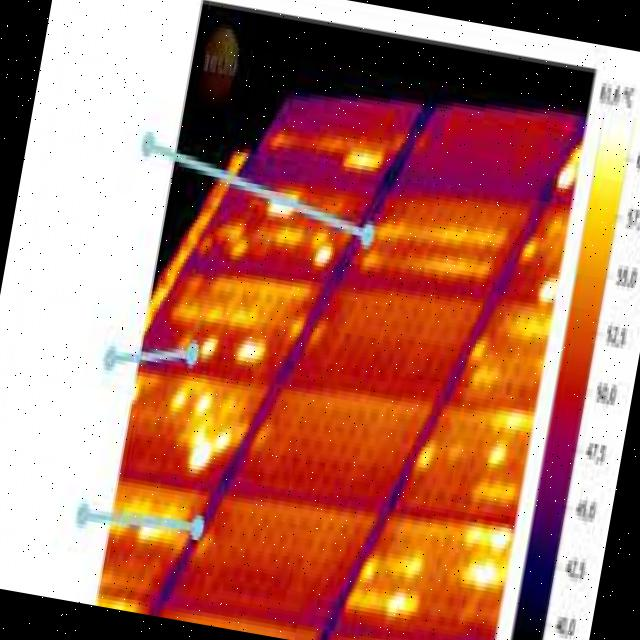Hotspot: (158, 386, 244, 484), (417, 212, 511, 258), (400, 243, 495, 286), (170, 292, 258, 334), (340, 578, 420, 620), (454, 555, 500, 605), (548, 136, 586, 193), (210, 213, 252, 262), (380, 542, 424, 586), (465, 518, 512, 556), (302, 233, 340, 280), (340, 146, 387, 178), (134, 519, 176, 551), (409, 436, 438, 482), (232, 336, 268, 368), (466, 360, 503, 390), (482, 439, 512, 472), (354, 550, 382, 583), (275, 222, 307, 250), (375, 218, 407, 246), (536, 272, 560, 308), (499, 408, 524, 438), (196, 332, 220, 362), (264, 198, 294, 222), (518, 236, 542, 266), (286, 313, 310, 343), (358, 250, 389, 272), (463, 335, 487, 363)
